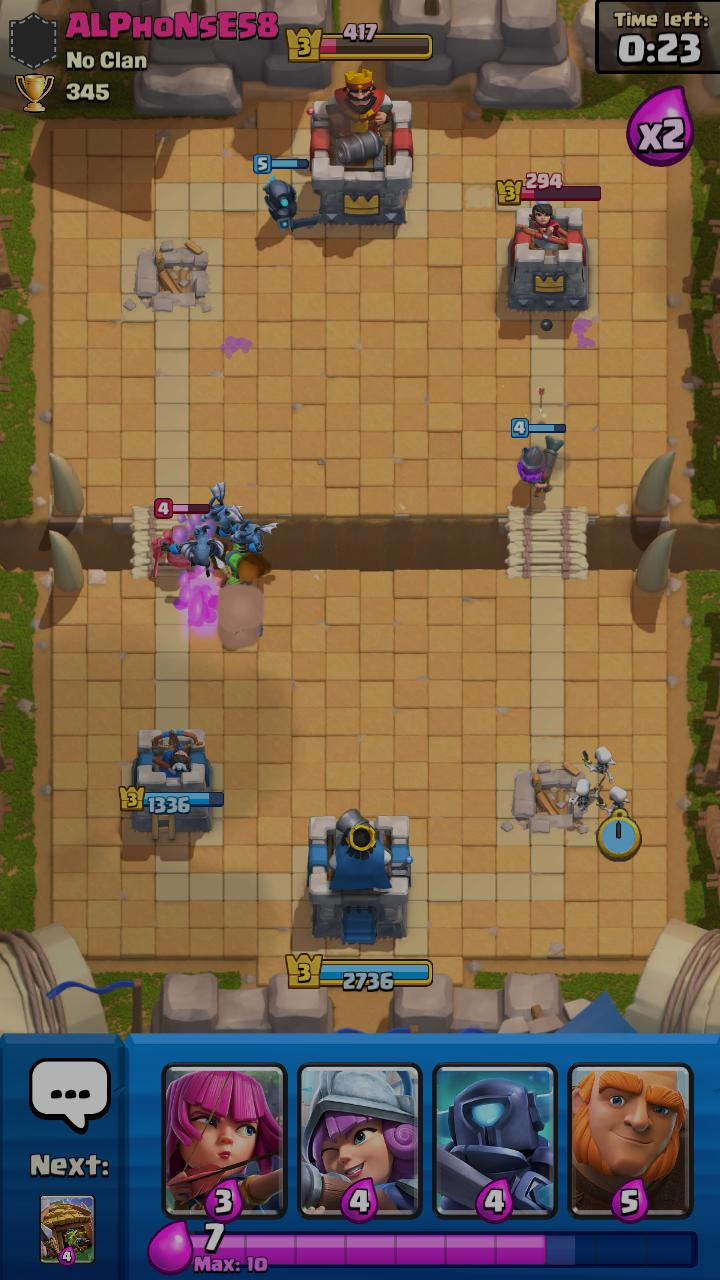ally: (253, 154, 321, 232), (511, 418, 566, 498), (160, 525, 224, 577), (227, 503, 280, 553), (201, 481, 245, 538), (218, 544, 254, 587), (569, 774, 606, 811), (582, 746, 616, 784), (596, 786, 631, 817)
enemy: (151, 498, 210, 578)
